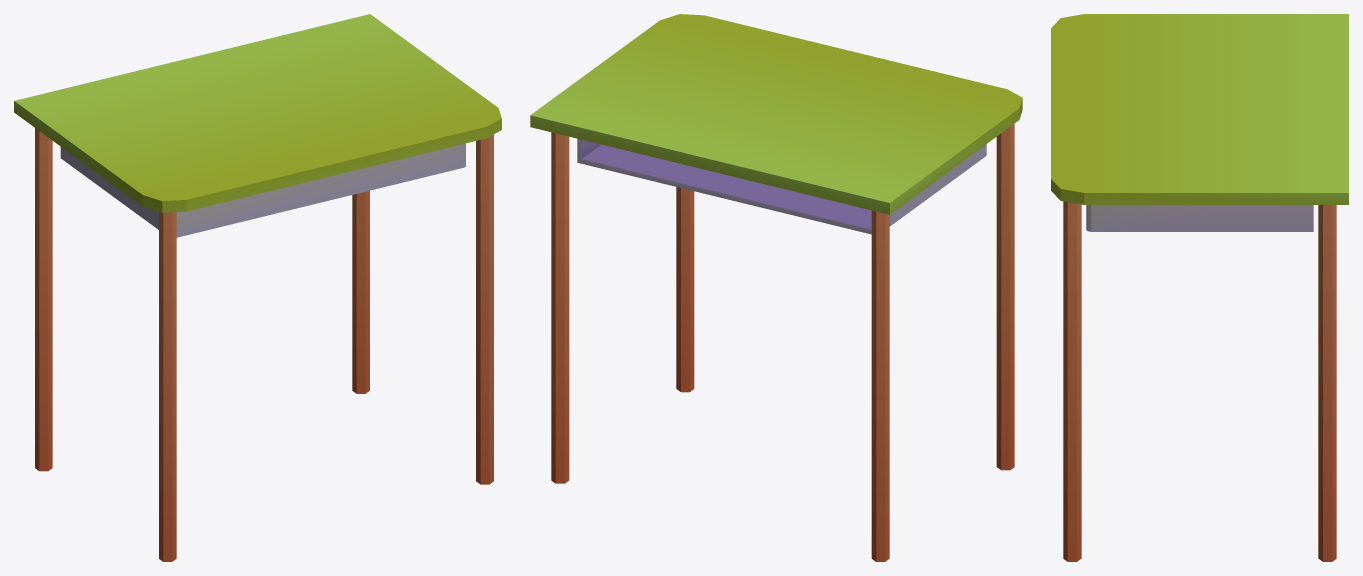
File: DeskModel.fbx
3 views of the same model, side by side, from view 1: azimuth 30°, elevation 25°; view 2: azimuth 150°, elevation 25°; view 3: azimuth 270°, elevation 25° (orthographic). The views are drawn at different scales.
Visible parts, largest first — view 1: Desk; view 2: Desk; view 3: Desk.
Part boxes in pixels (x1=…): Desk: x1=14, y1=14, x2=501, y2=561; Desk: x1=530, y1=14, x2=1022, y2=561; Desk: x1=1051, y1=14, x2=1348, y2=561.
Size of the model in its own units: 76.32 by 74.63 by 53.67.
